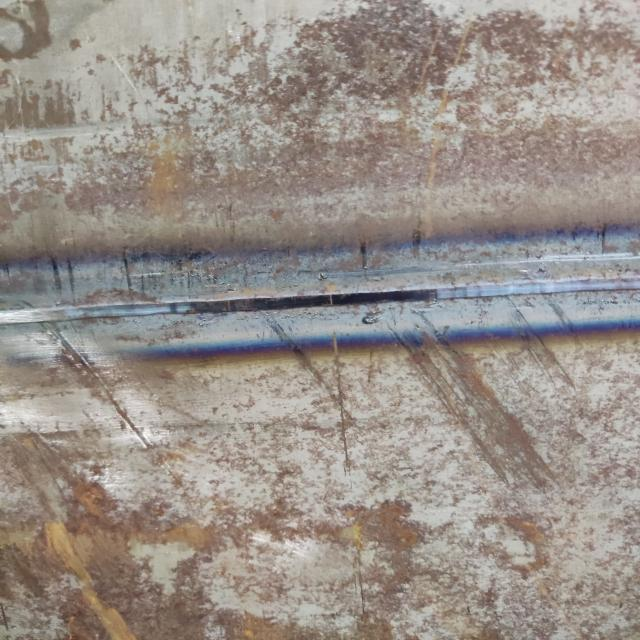seam: (0, 213, 639, 389)
